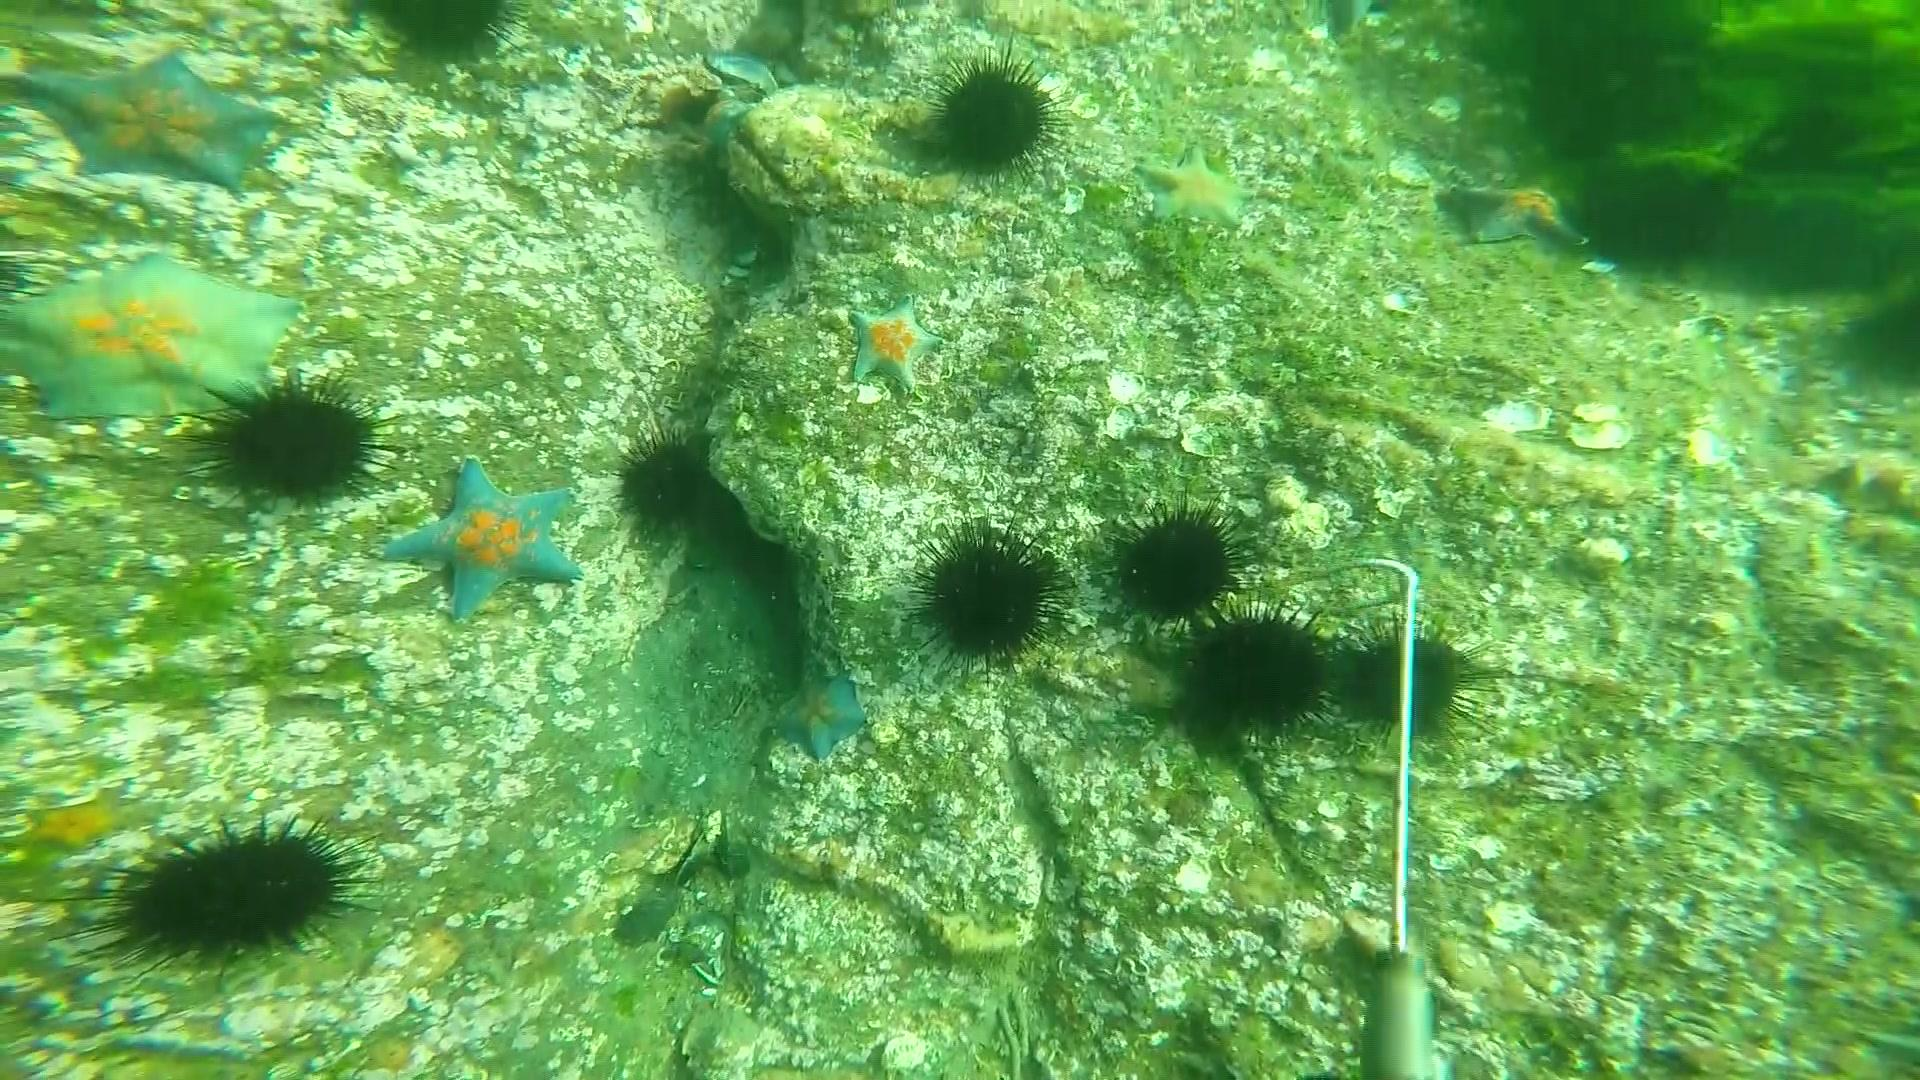echinus: (29, 804, 393, 993), (173, 363, 415, 521), (899, 502, 1083, 684), (1335, 605, 1513, 754), (1189, 588, 1344, 749), (1097, 492, 1267, 633), (919, 36, 1075, 189), (607, 422, 715, 534), (359, 1, 543, 63)
starfish: (1, 244, 315, 429), (373, 447, 591, 632), (26, 46, 293, 195), (1437, 171, 1598, 255), (1131, 138, 1262, 233), (841, 294, 956, 396), (767, 666, 878, 770)
